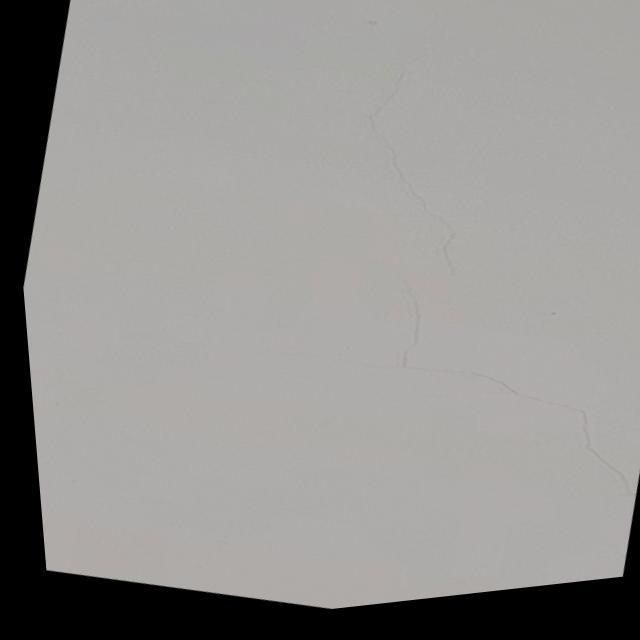Crack: (388, 287, 636, 483), (356, 51, 493, 278)
